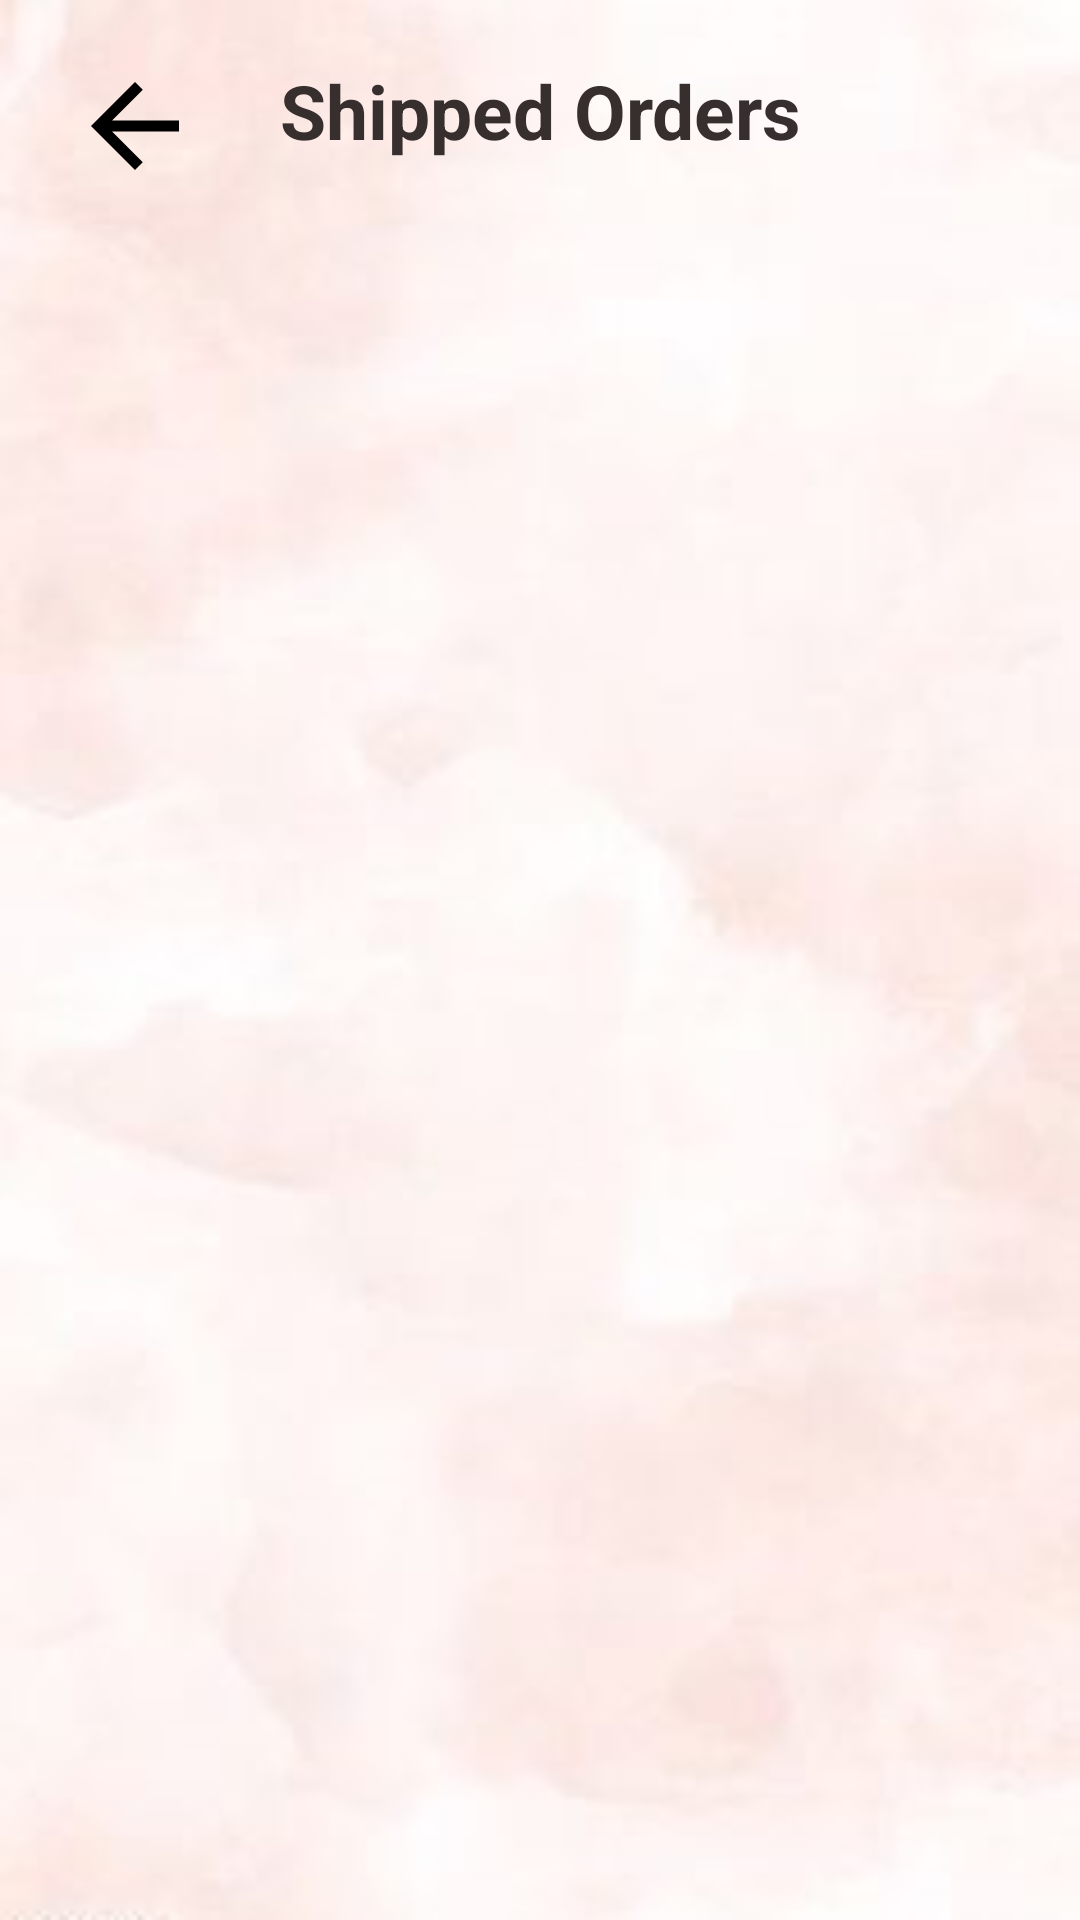

Screen size 1080px x 1920px. Icon name, then its box in pixels as {"left": x1, "top": y1, "right": x2, "bottom": y2}:
back: {"left": 91, "top": 82, "right": 179, "bottom": 170}
